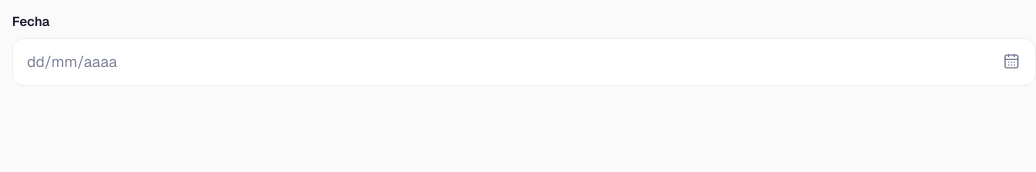
Test: DateField › avisa si la fecha escrita no es válida o está fuera de lo permitido
Type "99/99/2026" into the dropdown labelled "Fecha" at (506, 62), box [27,38,985,84]
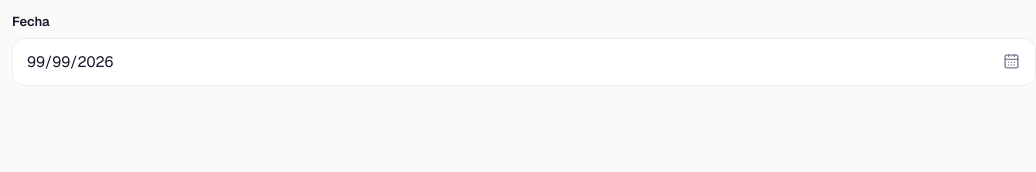
Leave the dropdown labelled "Fecha", box [27,38,985,84]
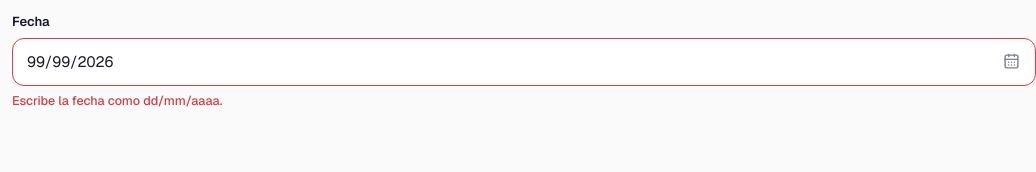
Check: the message reads "Escribe la fecha como dd/mm/aaaa.", box [12,92,222,108]
Replace the text in the dropdown labelled "Fecha" with "01/11/2026" at (506, 62), box [27,38,985,84]
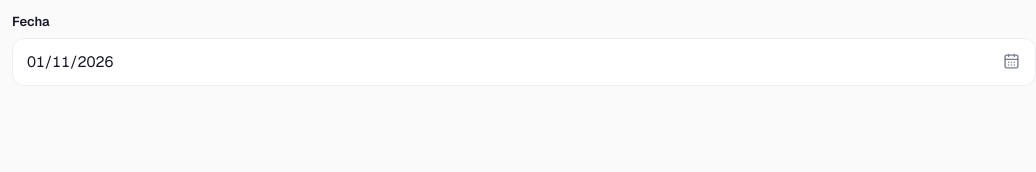
Leave the dropdown labelled "Fecha", box [27,38,985,84]
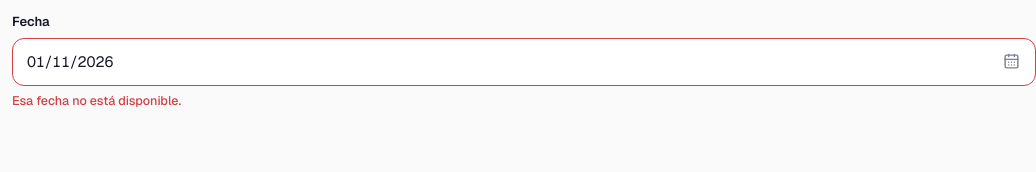
Check: the element named "fecha" is empty, box [12,12,1035,110]
Check: the message reads "Esa fecha no está disponible.", box [12,92,181,108]
